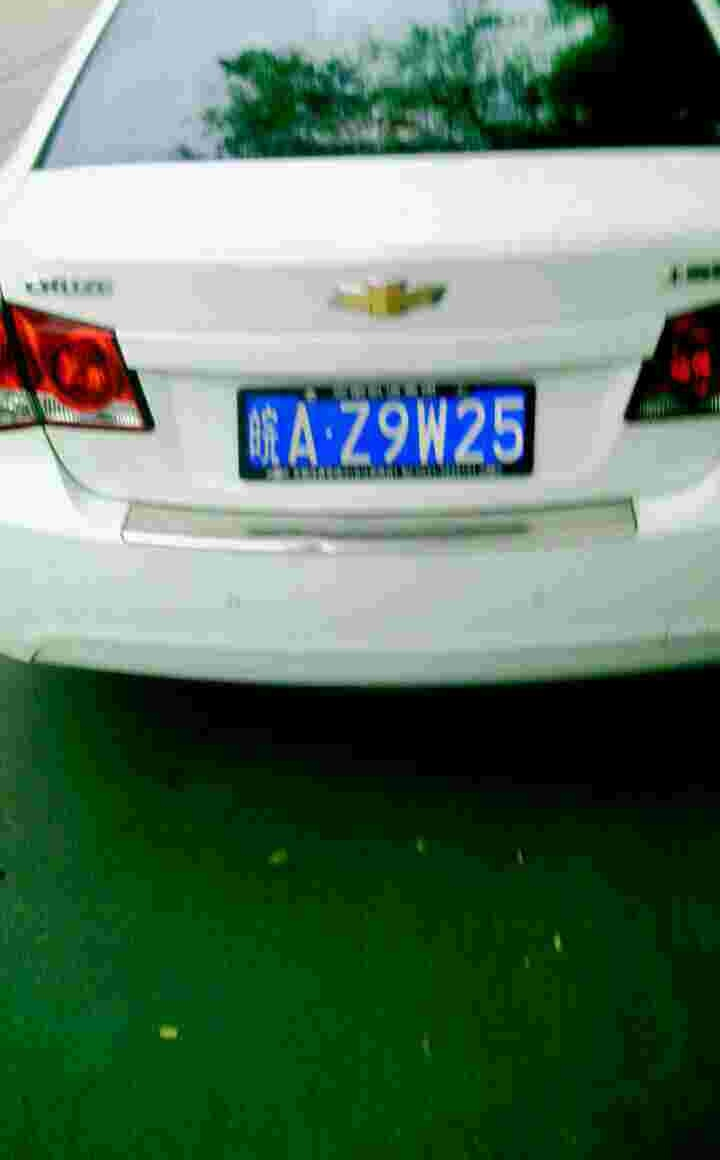plate: (241, 380, 540, 485)
